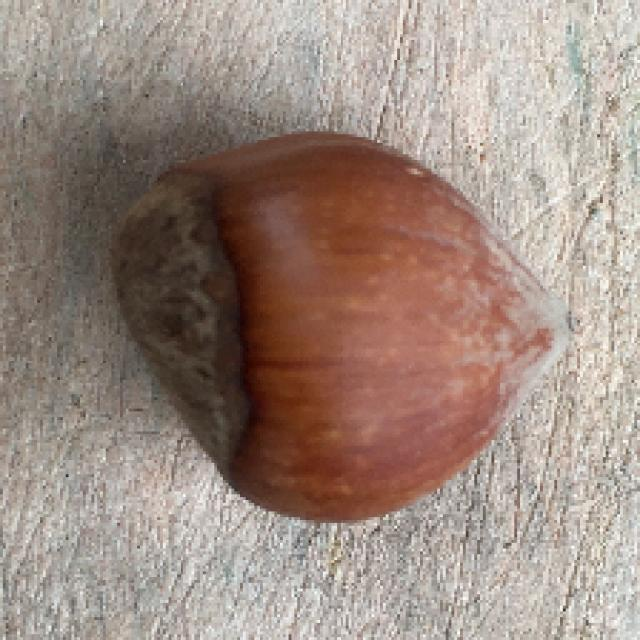qualityHazelnut: (95, 115, 582, 538)
